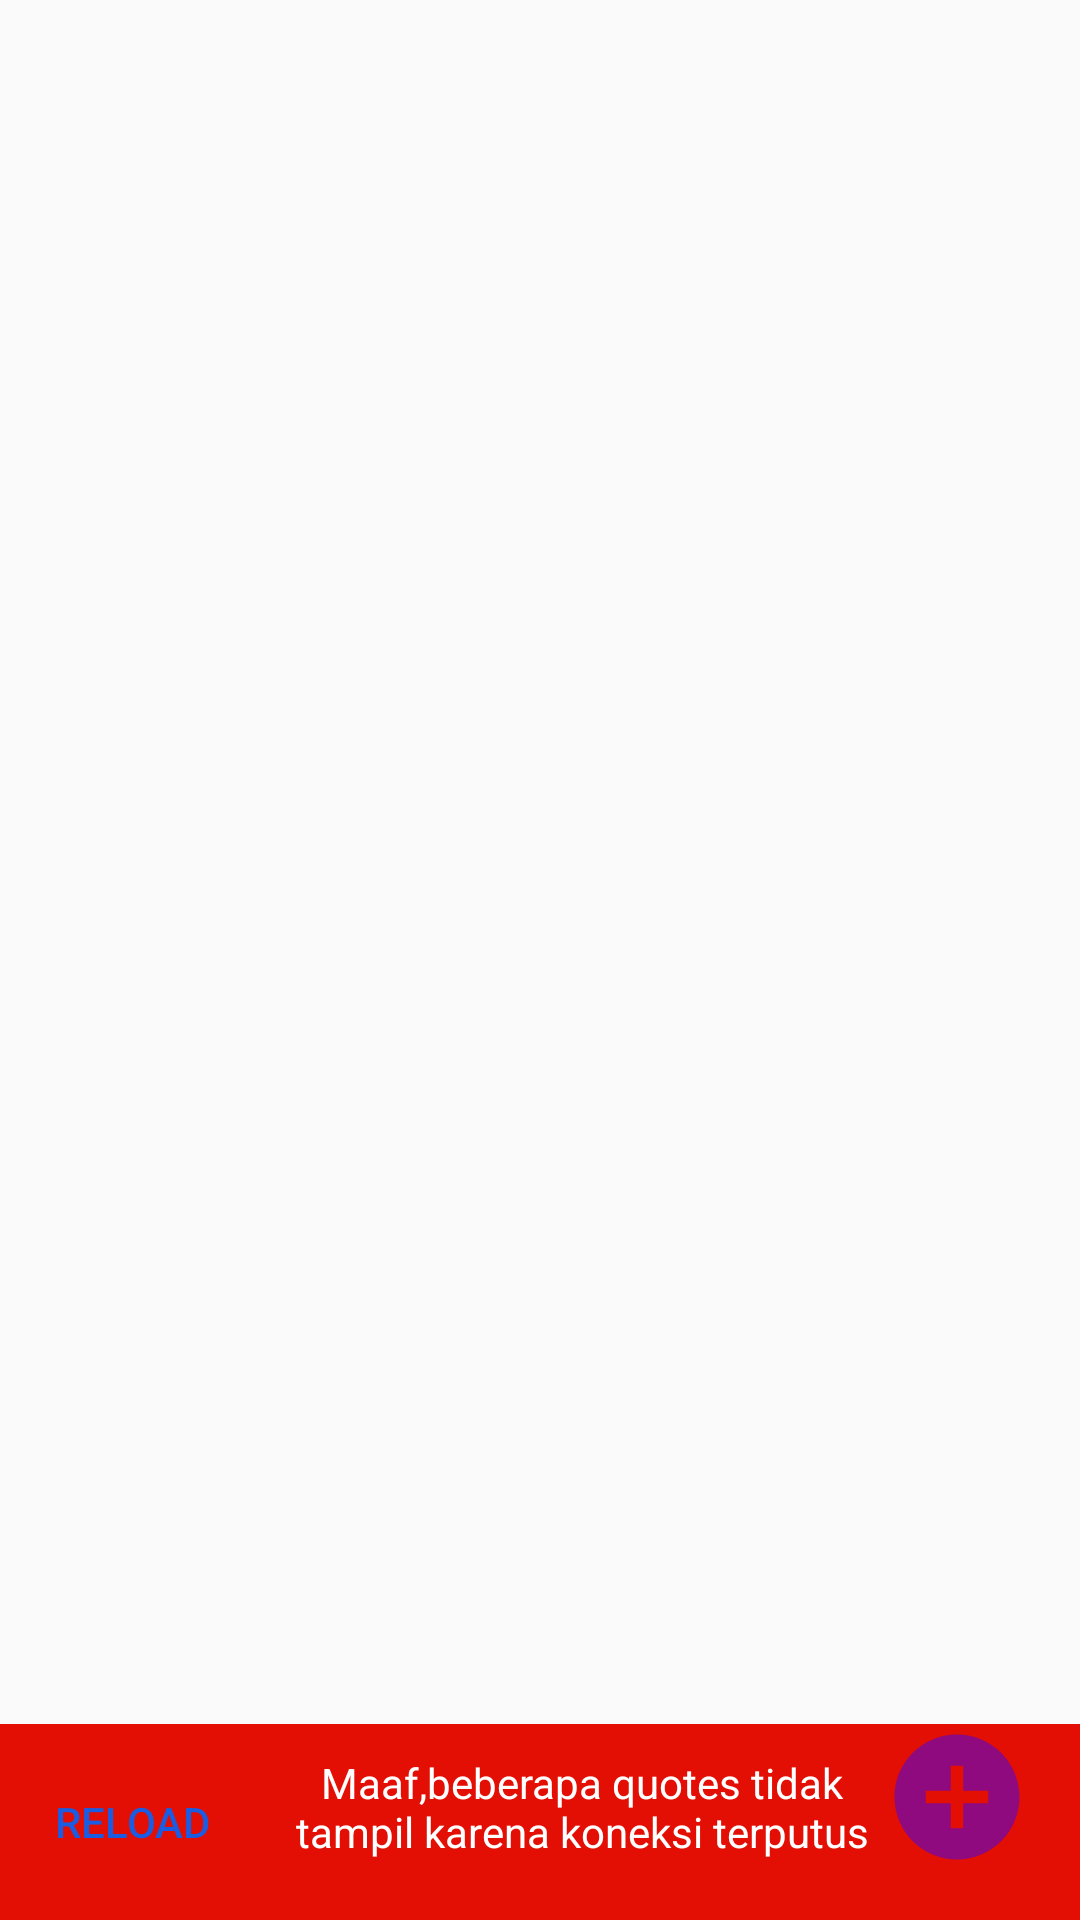

Icons on this 1080×1920 Android screen, each with the point to tap as point (x, y):
add circle: point (957, 1797)
